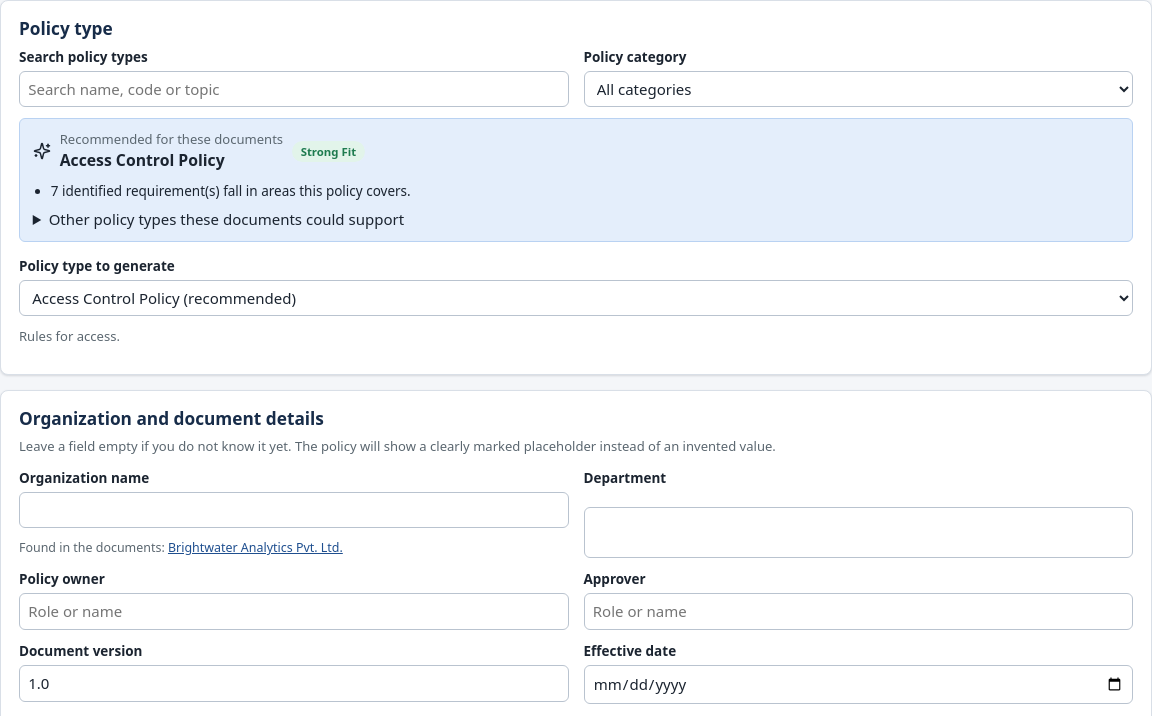
PolicyConfigForm › shows the recommended policy with its reasons and lets the user choose another
Later steps or results of the test are not shown.
expect the element named "Recommended policy type" shows "Access Control Policy": met, box [60,149,225,171]
expect the list item "7 identified requirement(s) fall in areas this policy covers." is shown: met, box [51,182,411,200]
Step 1. Select "Vendor Management Policy" in the dropdown labelled "Policy type to generate" → [576, 298], box [19,280,1133,316]
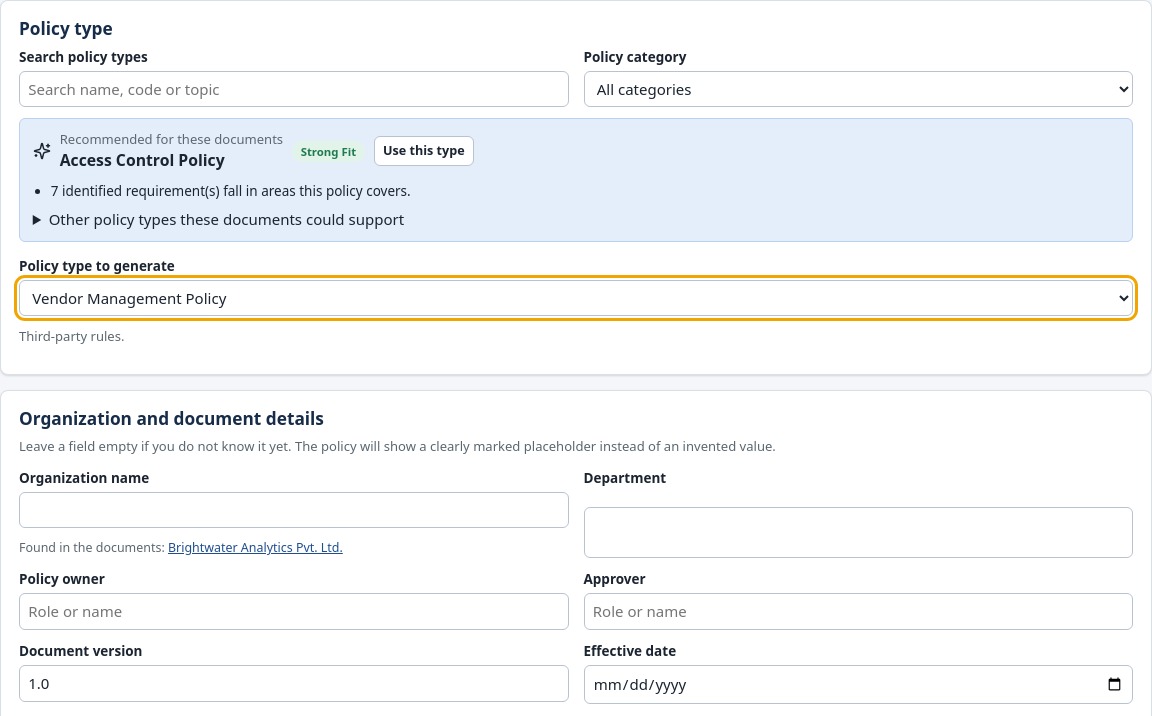
expect the text "Third-party rules." is shown: met, box [19,327,124,345]
